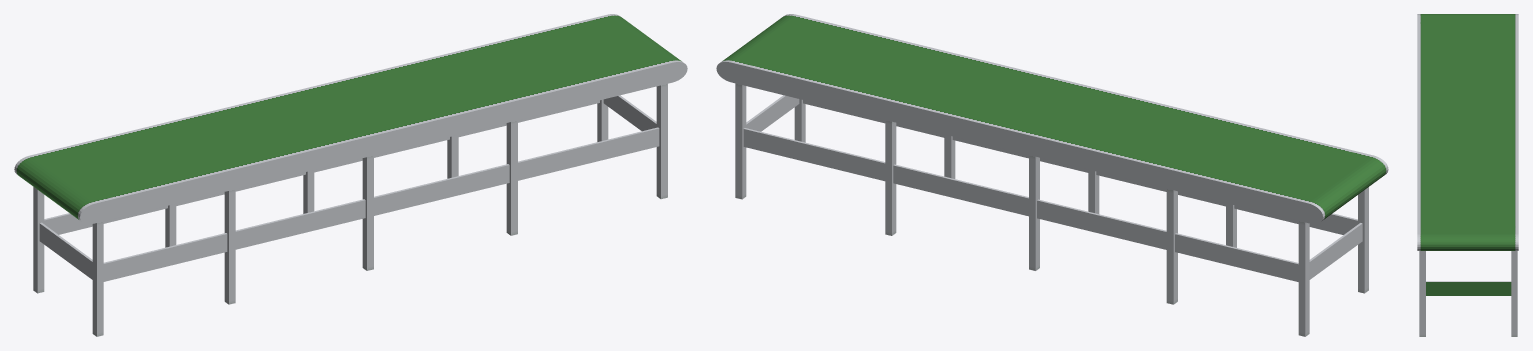
The model's file is zuzhuangxian.fbx.
The picture shows the model from 3 angles, left to right: view 1: azimuth 30°, elevation 25°; view 2: azimuth 150°, elevation 25°; view 3: azimuth 270°, elevation 25°; orthographic projection. The views are drawn at different scales.
Visible parts, largest first — view 1: Line002; view 2: Line002; view 3: Line002.
Boxes of the visible parts, x1,y1,x2,y2 form: Line002: (14, 14, 687, 336); Line002: (716, 14, 1388, 336); Line002: (1417, 14, 1518, 336).
Bounding box in the file's own units: 108 × 22.9 × 20.14.
Materials: 1 (1 with a texture image).
